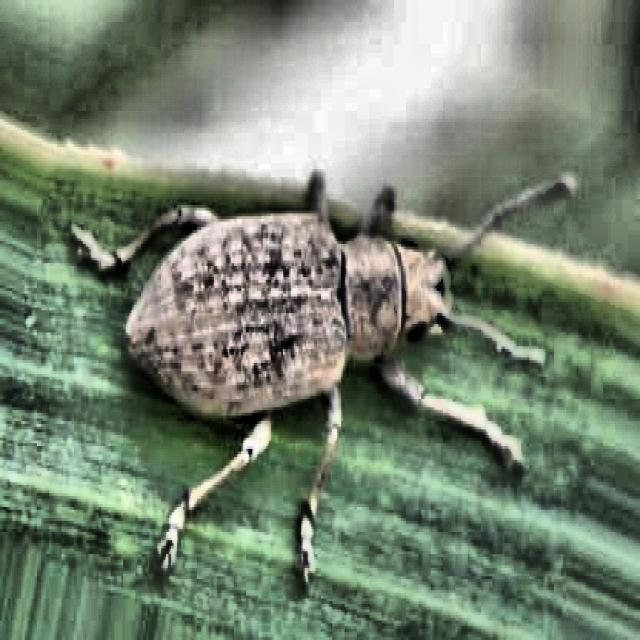Stink bug: (0, 0, 546, 559)
